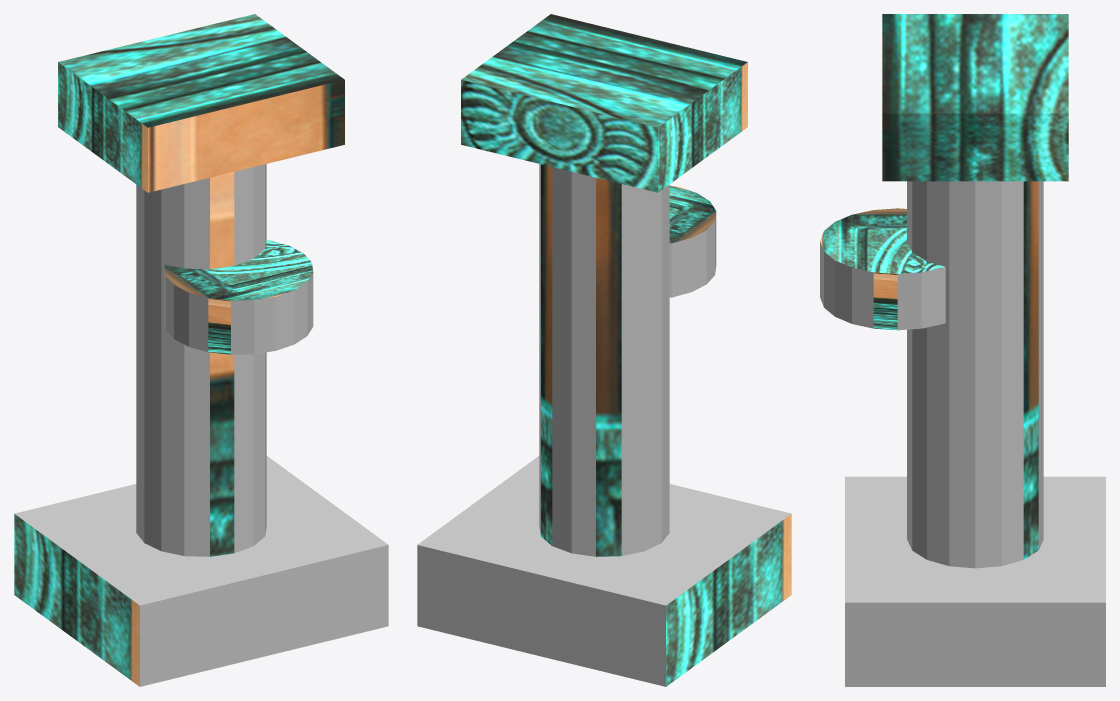
File: SM_AF_Wayfinder_B.glb
3 views of the same model, side by side, from view 1: azimuth 30°, elevation 25°; view 2: azimuth 150°, elevation 25°; view 3: azimuth 270°, elevation 25° (orthographic). The views are drawn at different scales.
Visible parts, largest first — view 1: SM_AF_Wayfinder_B; view 2: SM_AF_Wayfinder_B; view 3: SM_AF_Wayfinder_B.
Boxes of the visible parts, left/top/right/bottom form: SM_AF_Wayfinder_B: left=14, top=14, right=388, bottom=686; SM_AF_Wayfinder_B: left=417, top=14, right=791, bottom=686; SM_AF_Wayfinder_B: left=820, top=14, right=1105, bottom=686.
Bounding box in the file's own units: 0.96 × 1.99 × 0.92.
Materials: 2 (1 with a texture image).
